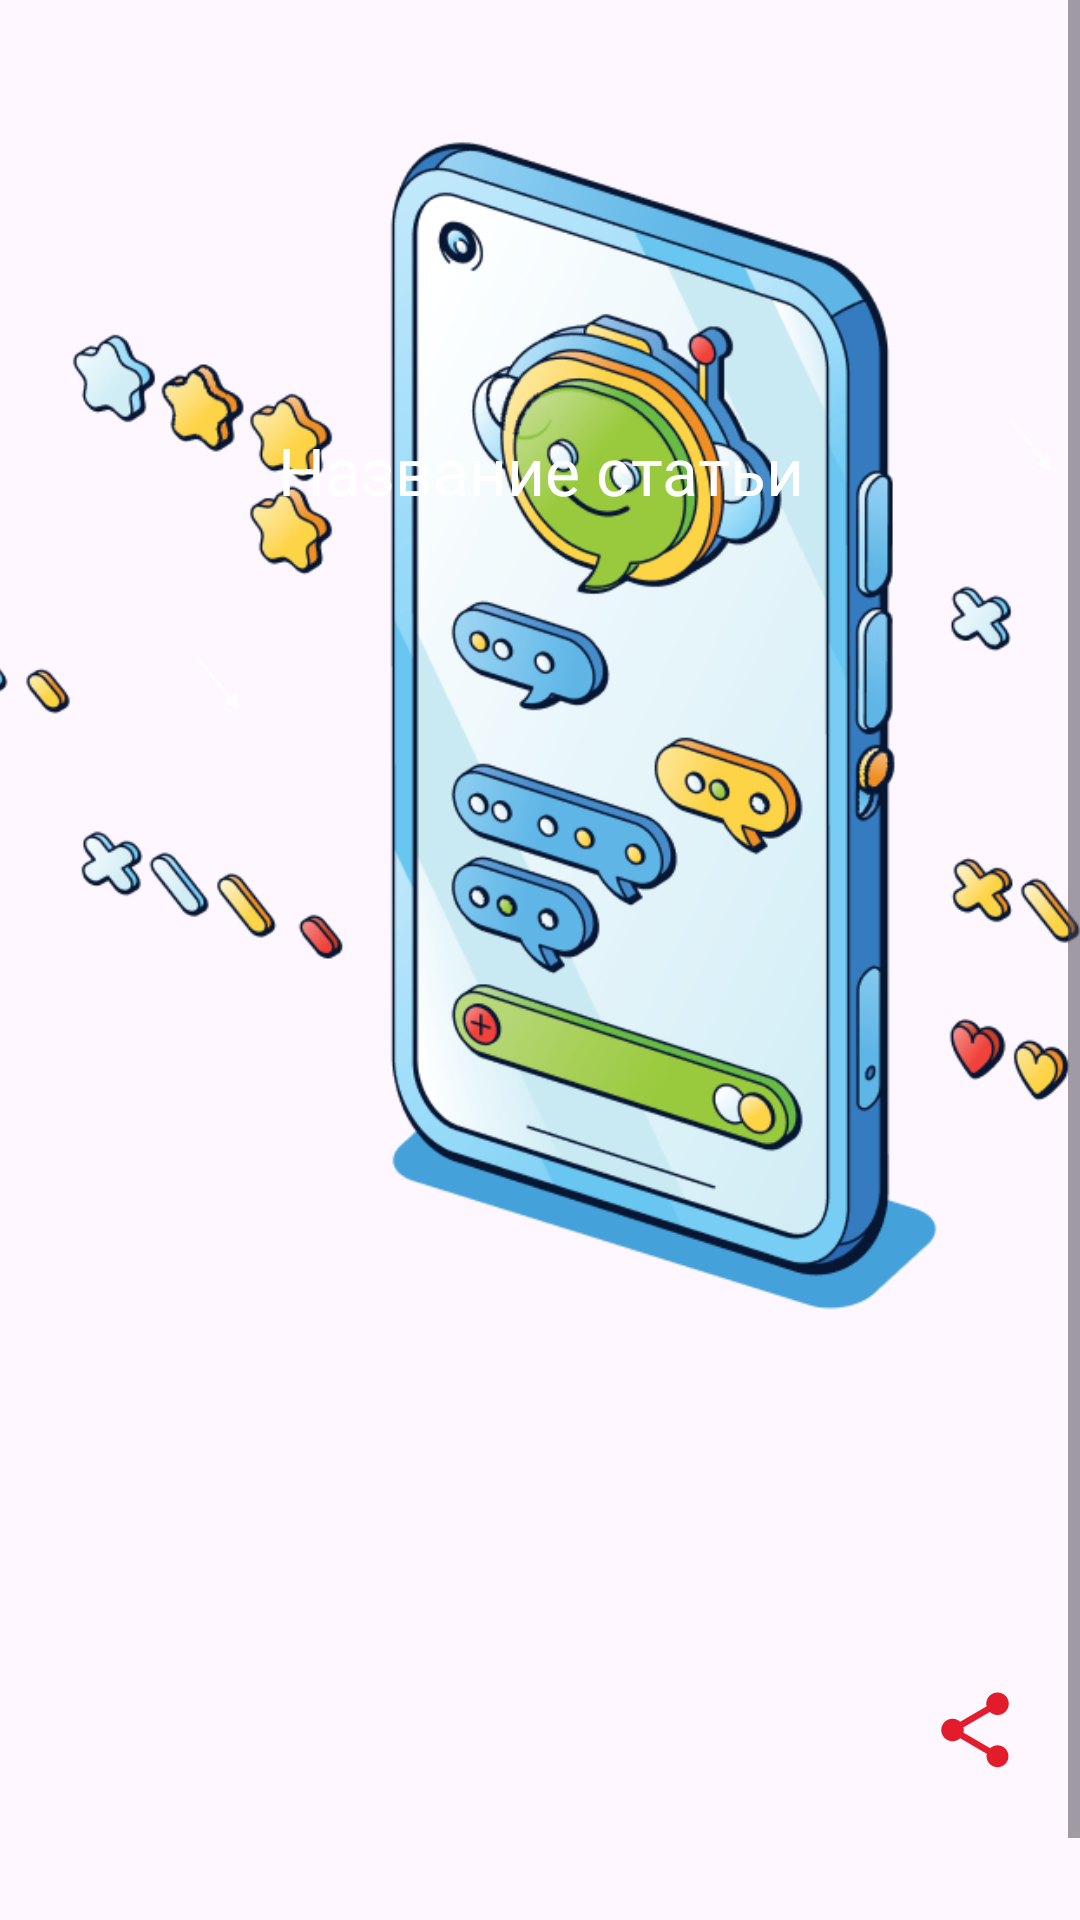

Icon bounding boxes for this 1080w x 1920h phone screenshot, format (x1, y1, x2, y2):
share: (941, 1692, 1009, 1768)
